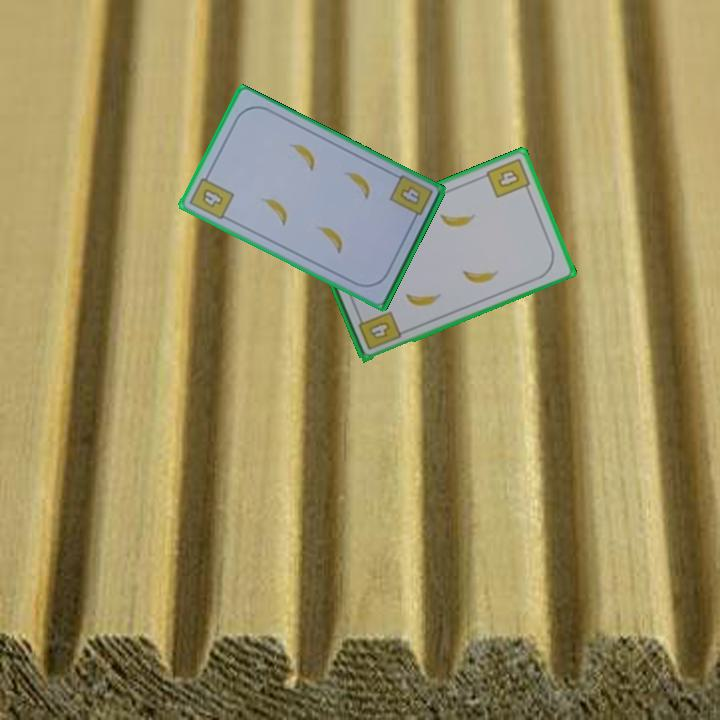4b: (186, 169, 237, 223), (386, 171, 436, 226), (483, 154, 534, 201), (354, 307, 404, 353)
